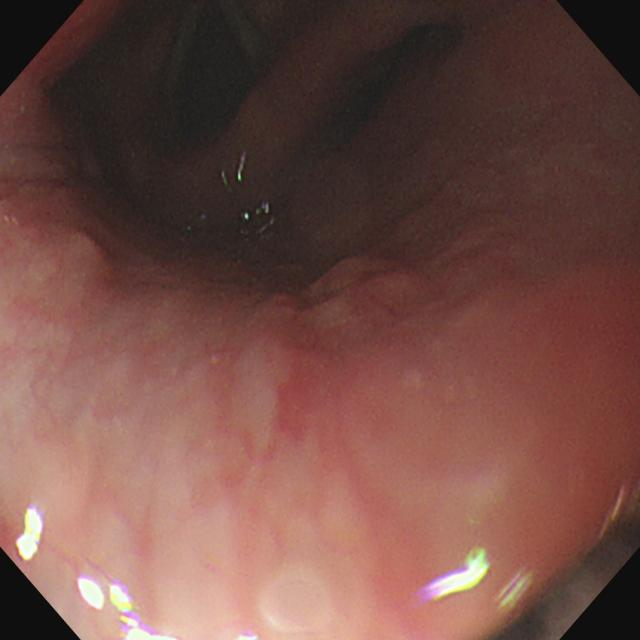E: (100, 8, 353, 271)
U: (76, 576, 180, 640), (421, 549, 491, 602), (16, 507, 45, 564)
